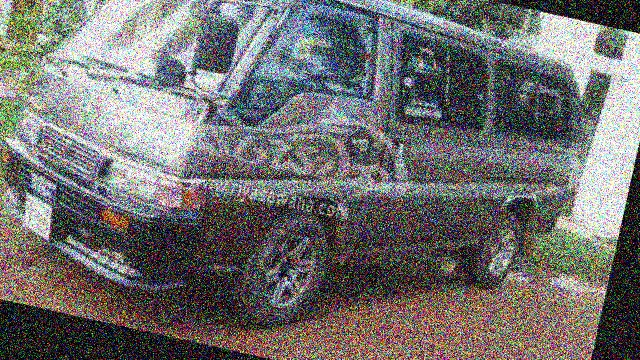van: (0, 0, 610, 360)
